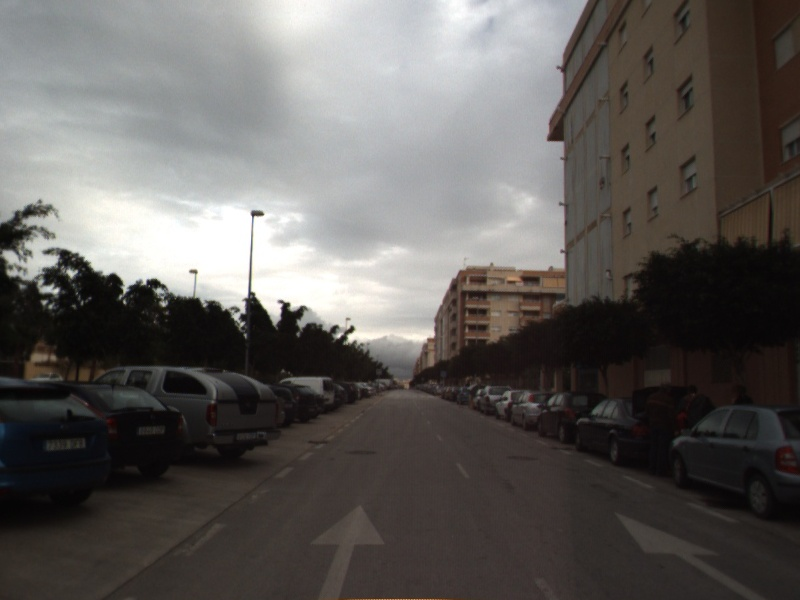STRAIGHT: (613, 510, 770, 600), (307, 502, 387, 600)
